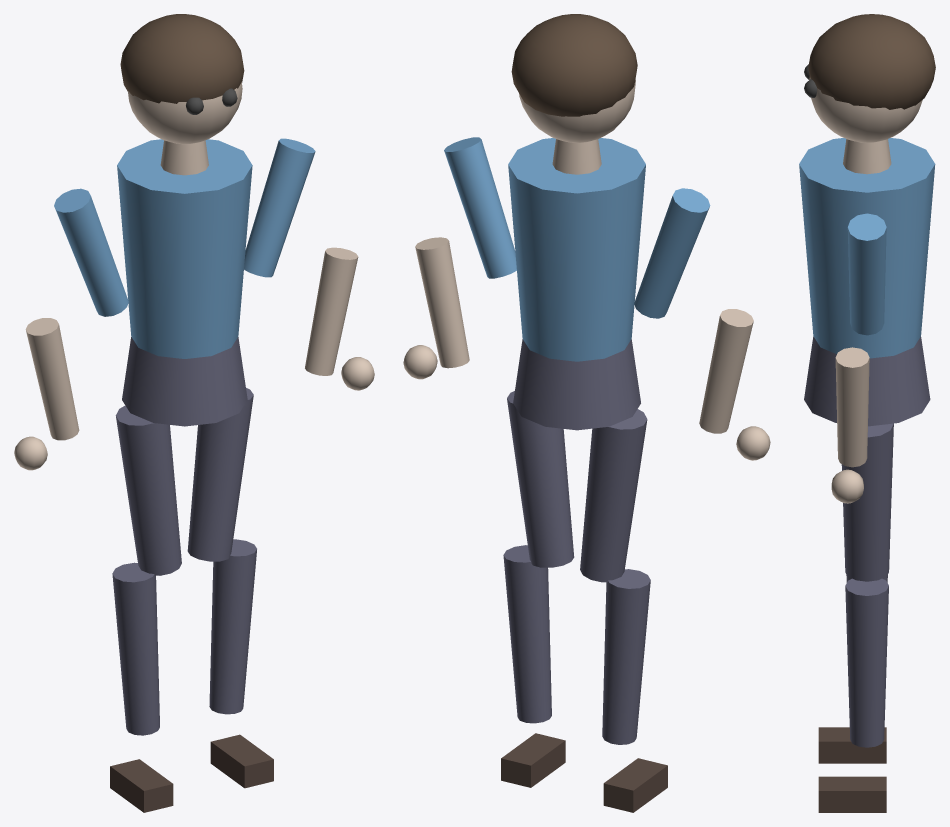
Rendered from stickfigure.glb.
The picture shows the model from 3 angles, left to right: view 1: azimuth 30°, elevation 25°; view 2: azimuth 150°, elevation 25°; view 3: azimuth 270°, elevation 25°; orthographic projection.
Visible parts, largest first — view 1: StickFigure; view 2: StickFigure; view 3: StickFigure.
Part boxes in pixels (box(x1,y1,x2,y2)): StickFigure: box(14, 14, 374, 812); StickFigure: box(403, 14, 770, 812); StickFigure: box(799, 14, 935, 812).
Size of the model in its own units: 0.85 by 1.72 by 0.2812.
